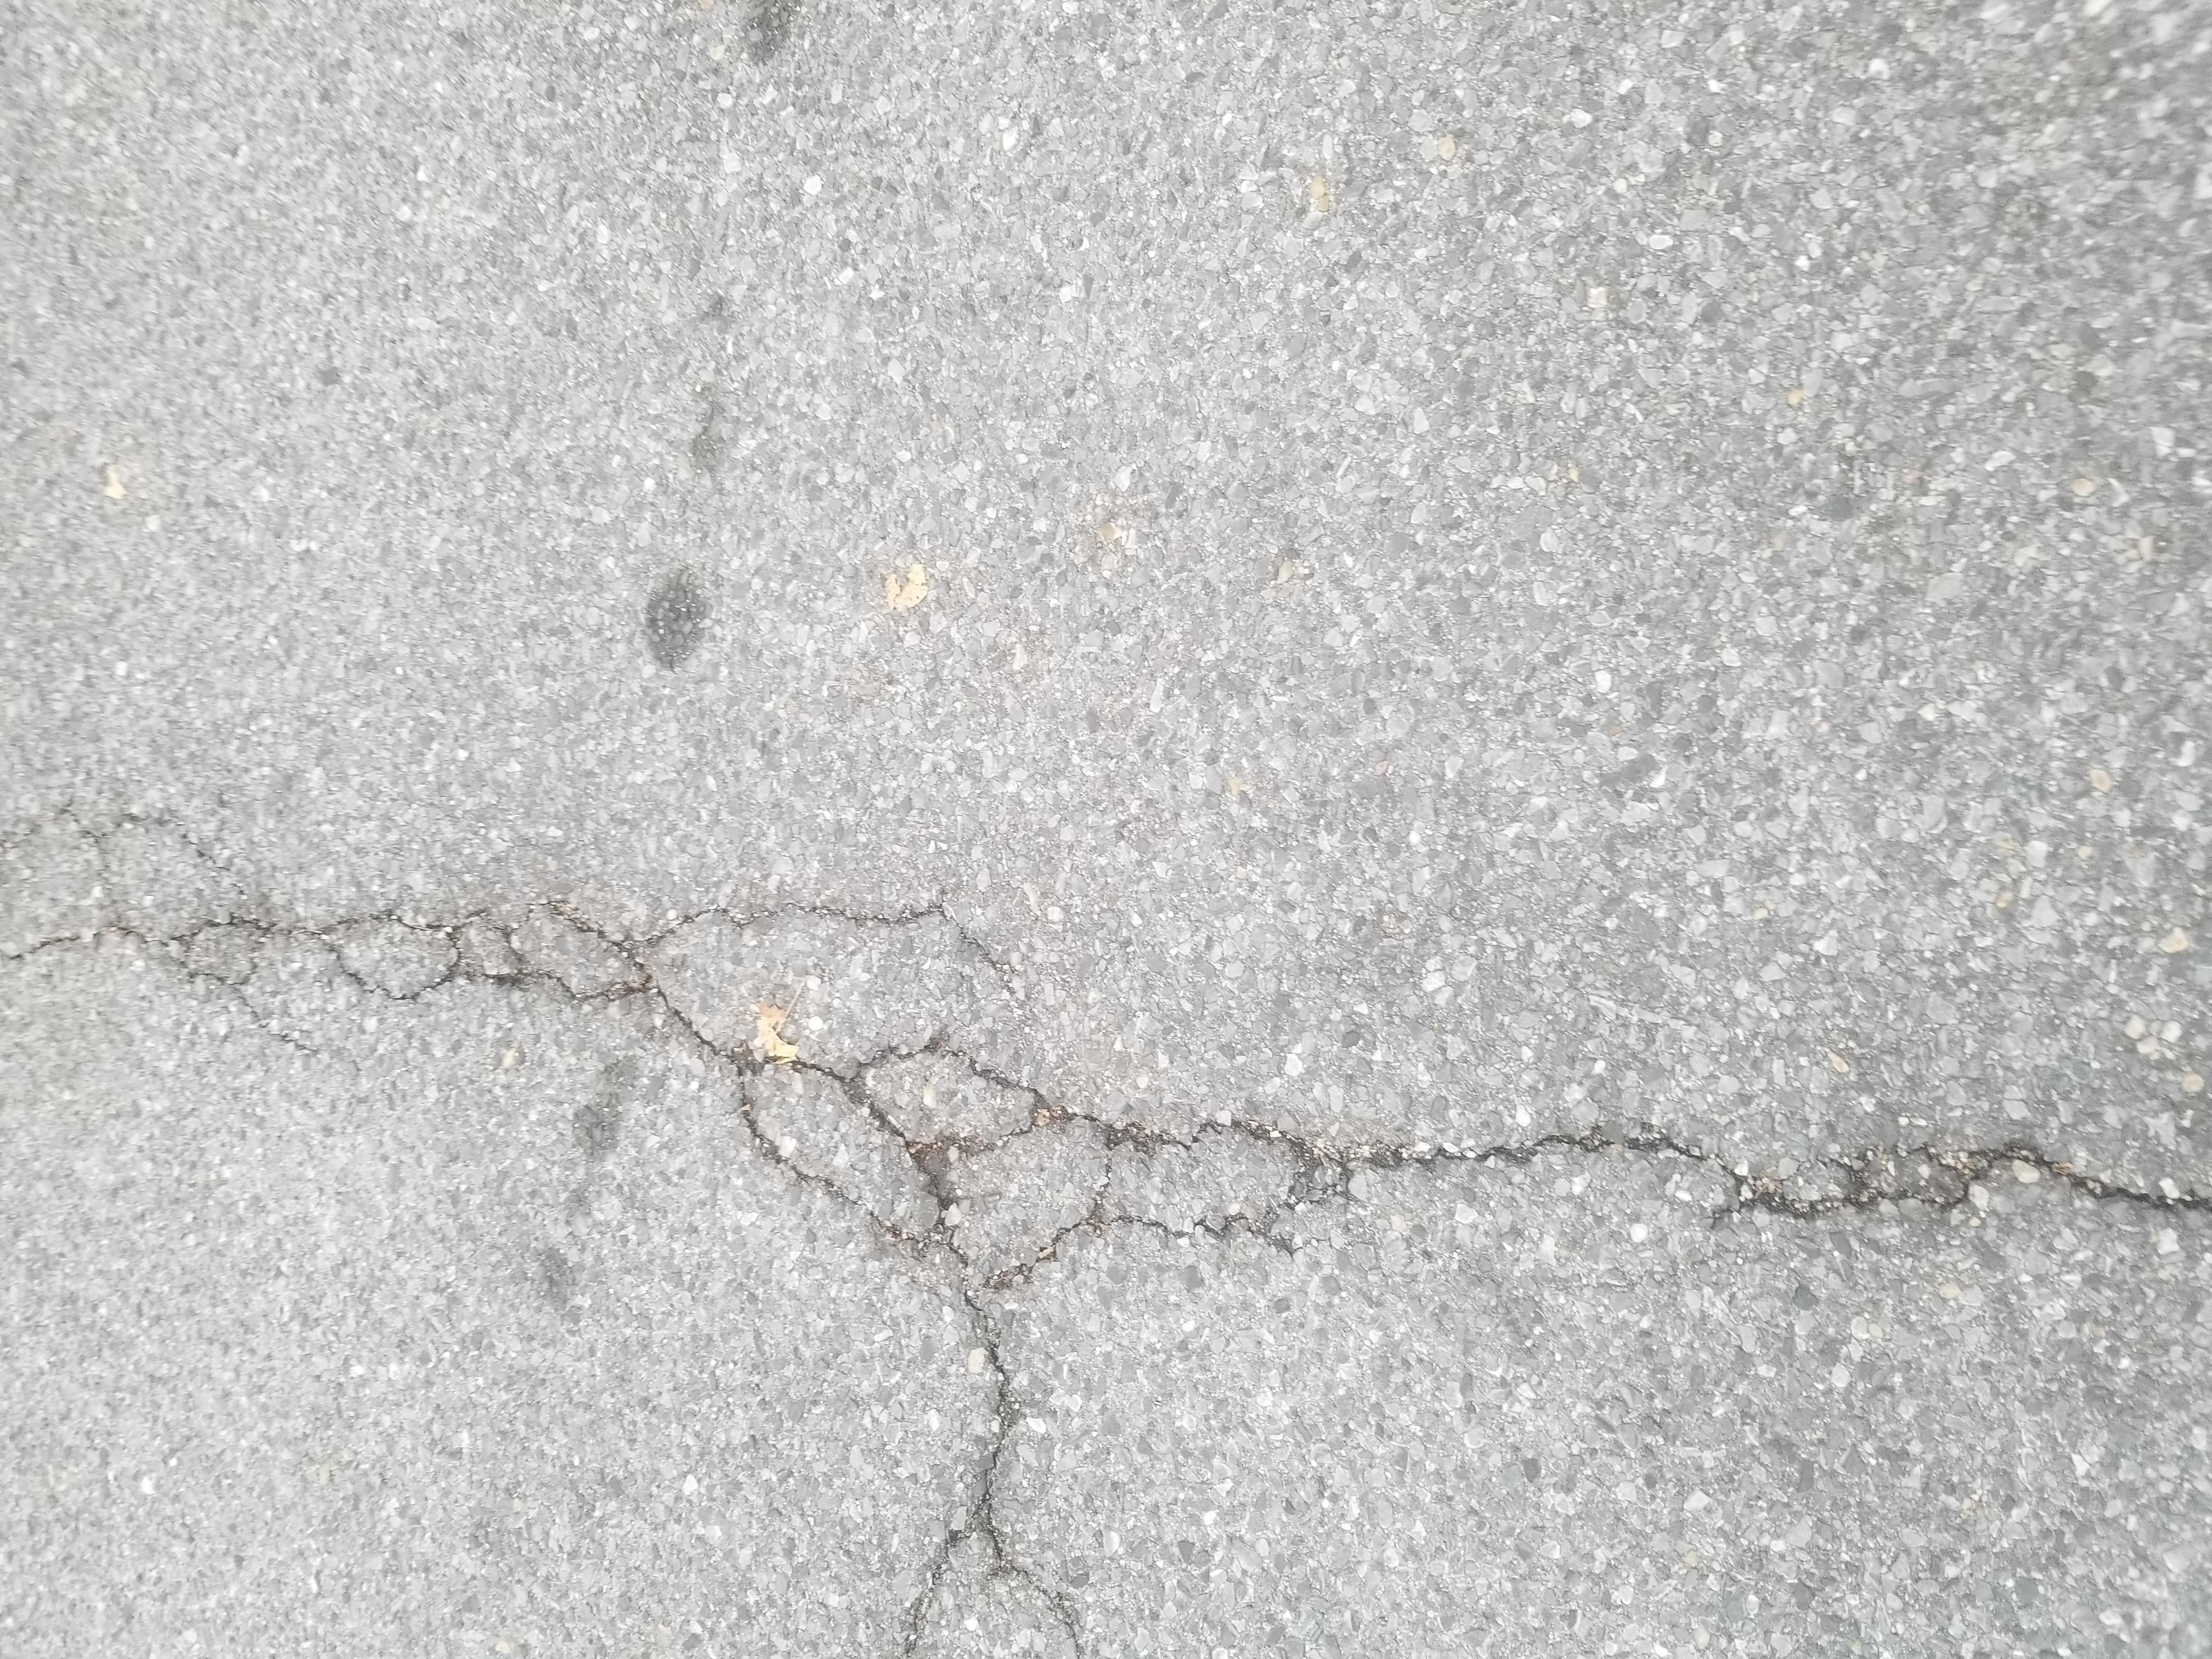alligator-crack: (37, 12, 1214, 1652)
